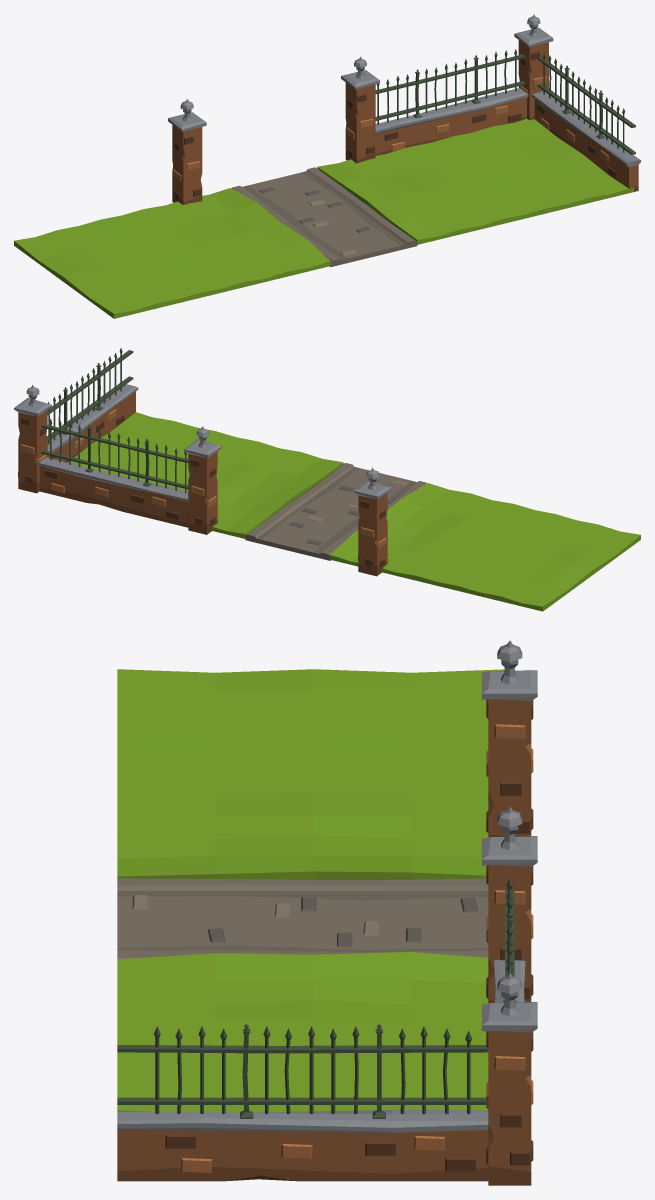
Rendered from sence1_hy.FBX.
3 views of the same model, one above another, from view 1: azimuth 30°, elevation 25°; view 2: azimuth 150°, elevation 25°; view 3: azimuth 270°, elevation 25° (orthographic). The views are drawn at different scales.
Visible parts, largest first — view 1: SM_Env_Grass_002, SM_Env_GrassPath_Straight_01, SM_Env_Grass_01, SM_Env_Fence_01, SM_Env_Fence_002, SM_Env_Fence_End_002, SM_Env_Fence_End_003, SM_Env_Fence_End_01; view 2: SM_Env_Grass_002, SM_Env_GrassPath_Straight_01, SM_Env_Grass_01, SM_Env_Fence_01, SM_Env_Fence_002, SM_Env_Fence_End_002, SM_Env_Fence_End_003, SM_Env_Fence_End_01; view 3: SM_Env_Grass_002, SM_Env_GrassPath_Straight_01, SM_Env_Fence_002, SM_Env_Grass_01, SM_Env_Fence_End_01, SM_Env_Fence_End_003, SM_Env_Fence_End_002, SM_Env_Fence_01.
Part boxes in pixels (<box>): SM_Env_Grass_002: <box>14,201,287,318</box>; SM_Env_GrassPath_Straight_01: <box>193,159,460,276</box>; SM_Env_Grass_01: <box>366,119,633,234</box>; SM_Env_Fence_01: <box>374,49,528,155</box>; SM_Env_Fence_002: <box>532,52,640,191</box>; SM_Env_Fence_End_002: <box>341,57,379,163</box>; SM_Env_Fence_End_003: <box>168,99,206,204</box>; SM_Env_Fence_End_01: <box>514,14,553,120</box>; SM_Env_Grass_002: <box>382,493,640,611</box>; SM_Env_GrassPath_Straight_01: <box>212,452,470,566</box>; SM_Env_Grass_01: <box>68,412,300,513</box>; SM_Env_Fence_01: <box>38,418,188,527</box>; SM_Env_Fence_002: <box>47,347,138,462</box>; SM_Env_Fence_End_002: <box>184,426,221,534</box>; SM_Env_Fence_End_003: <box>354,467,391,576</box>; SM_Env_Fence_End_01: <box>14,385,51,493</box>; SM_Env_Grass_002: <box>117,669,504,838</box>; SM_Env_GrassPath_Straight_01: <box>117,835,488,1004</box>; SM_Env_Fence_002: <box>117,1024,488,1181</box>; SM_Env_Grass_01: <box>117,1001,488,1112</box>; SM_Env_Fence_End_01: <box>482,972,537,1185</box>; SM_Env_Fence_End_003: <box>482,640,537,837</box>; SM_Env_Fence_End_002: <box>482,806,537,1003</box>; SM_Env_Fence_01: <box>494,877,525,1002</box>.
Bounding box in the file's own units: 15.36 × 2.92 × 5.36.
